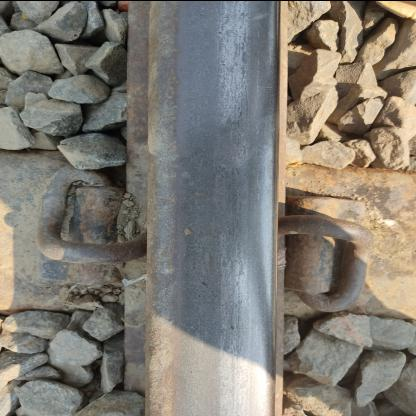Non Defective: (32, 143, 384, 352)
